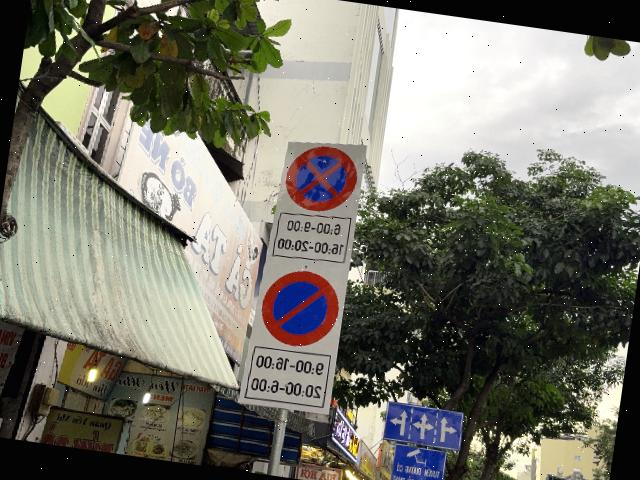cam-do-xe: (256, 265, 344, 352)
cam-dung-va-do-xe: (282, 140, 362, 218)
